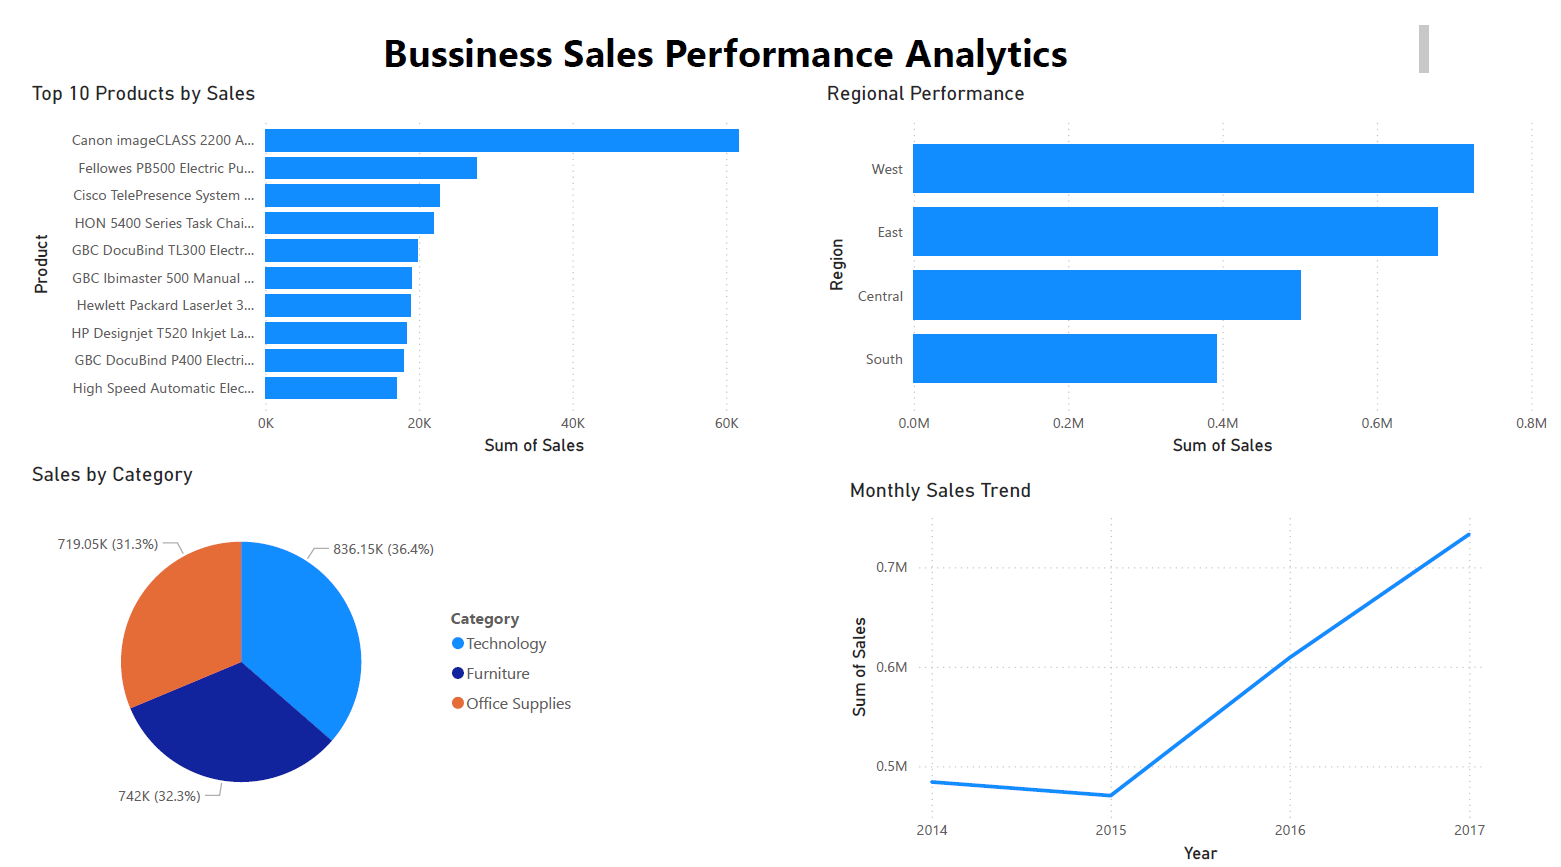

The page's visual inventory and layout, read from the dashboard file:
{"tool":"powerbi","page":{"name":"Page 1","canvas":[1280,720],"ordinal":0},"visuals":[{"type":"clusteredBarChart","title":"Top 10 Products by Sales","fields":{"Category":["Superstore.Product Name"],"Y":["Sum(Superstore.Sales)"]},"box":[0,50.8,665.5,319.7],"z":0},{"type":"pieChart","title":"Sales by Category","fields":{"Category":["Superstore.Category"],"Y":["Sum(Superstore.Sales)"]},"box":[0,370.5,470.7,317],"z":1000},{"type":"barChart","title":"Regional Performance","fields":{"Category":["Superstore.Region"],"Y":["Sum(Superstore.Sales)"]},"box":[665.5,50.8,614.8,319.7],"z":2000},{"type":"lineChart","title":"Monthly Sales Trend","fields":{"Category":["Superstore.Order Date.Variation.Date Hierarchy.Year","Superstore.Order Date.Variation.Date Hierarchy.Quarter","Superstore.Order Date.Variation.Date Hierarchy.Month","Superstore.Order Date.Variation.Date Hierarchy.Day"],"Y":["Sum(Superstore.Sales)"]},"box":[684.7,384.2,542,326.6],"z":3000},{"type":"textbox","box":[0,0,1180.1,50.8],"z":4000}]}

Visuals, with their boxes in screenshot pixels (x1, y1, x2, y2), scaled from the page's 1280x720 canvas onto the 1561x867 screenshot:
"Top 10 Products by Sales" clusteredBarChart: <region>0, 61, 812, 446</region>
"Sales by Category" pieChart: <region>0, 446, 574, 828</region>
"Regional Performance" barChart: <region>812, 61, 1560, 446</region>
"Monthly Sales Trend" lineChart: <region>835, 463, 1496, 856</region>
textbox: <region>0, 0, 1439, 61</region>
